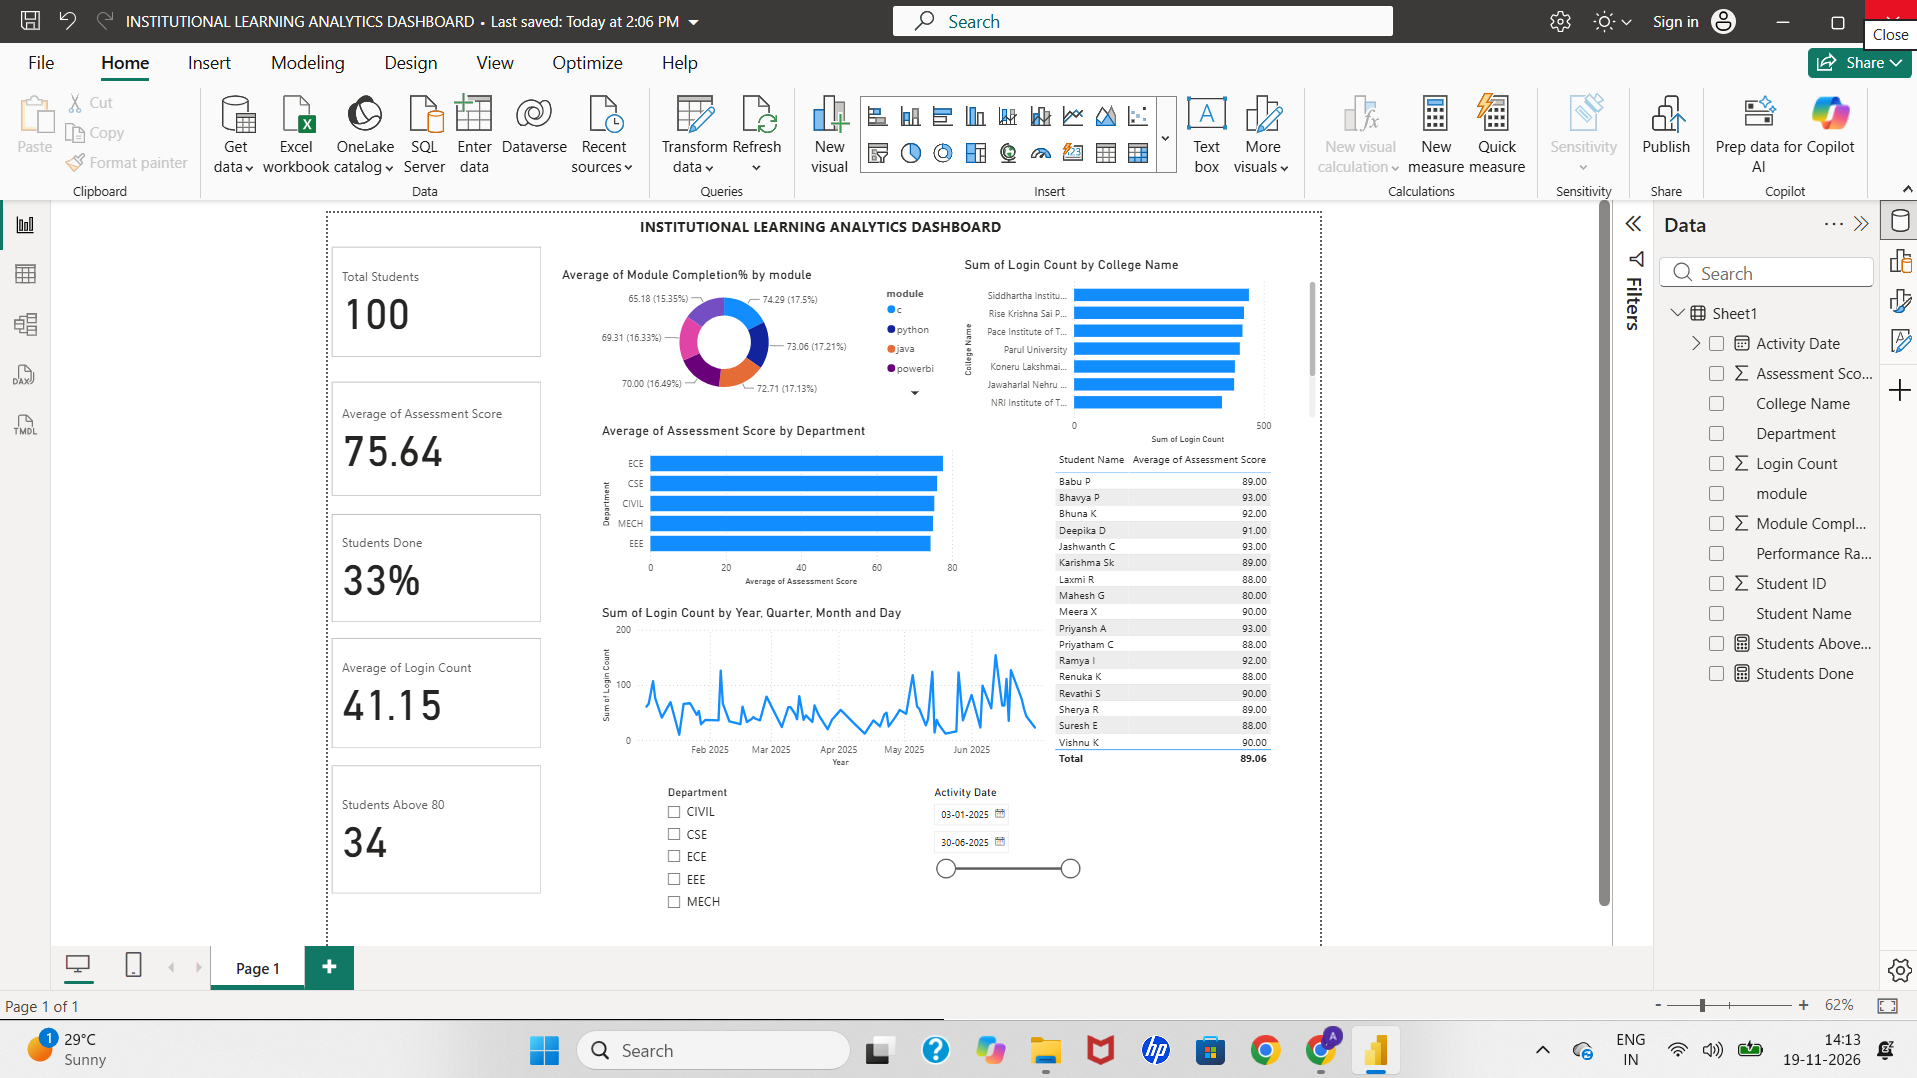

This screenshot's page, from the dashboard's own definition file:
{"tool":"powerbi","page":{"name":"Page 1","canvas":[1500,1300],"ordinal":0},"visuals":[{"type":"cardVisual","title":"TOTAL STUDENTS","fields":{"Data":["CountNonNull(Sheet1.Student ID)"]},"box":[0,38,280.3,152.1],"z":0},{"type":"cardVisual","fields":{"Data":["Avg(Sheet1.Assessment Score)"]},"box":[0,212.7,280.3,157.7],"z":1000},{"type":"cardVisual","fields":{"Data":["Sheet1.Students Done"]},"box":[0,384.5,280.3,149.3],"z":2000},{"type":"cardVisual","fields":{"Data":["Avg(Sheet1.Login Count)"]},"box":[0,543.7,280.3,152.1],"z":3000},{"type":"clusteredBarChart","fields":{"Category":["Sheet1.Department"],"Y":["Avg(Sheet1.Assessment Score)"]},"box":[347.9,270.4,469,215.5],"z":4000},{"type":"clusteredBarChart","fields":{"Category":["Sheet1.College Name"],"Y":["Sum(Sheet1.Login Count)"]},"box":[816.9,56.3,463.4,246.5],"z":5000},{"type":"donutChart","fields":{"Category":["Sheet1.module"],"Y":["Avg(Sheet1.Module Completion%)"]},"box":[297.2,69,500,176.1],"z":6000},{"type":"lineChart","fields":{"Category":["Sheet1.Activity Date.Variation.Date Hierarchy.Year","Sheet1.Activity Date.Variation.Date Hierarchy.Quarter","Sheet1.Activity Date.Variation.Date Hierarchy.Month","Sheet1.Activity Date.Variation.Date Hierarchy.Day"],"Y":["Sum(Sheet1.Login Count)"]},"box":[347.9,504.2,593,215.5],"z":7000},{"type":"tableEx","fields":{"Values":["Sheet1.Student Name","Avg(Sheet1.Assessment Score)"]},"box":[932.2,301.1,347.8,418.9],"z":8000},{"type":"textbox","box":[347.9,0,574.6,38],"z":9000},{"type":"slicer","fields":{"Values":["Sheet1.Department"]},"box":[425.6,733.3,210,246.7],"z":10000},{"type":"slicer","fields":{"Values":["Sheet1.Activity Date"]},"box":[770,733.3,210,417.8],"z":11000},{"type":"cardVisual","fields":{"Data":["Sheet1.Students Above 80"]},"box":[0,708.3,280,175],"z":12000}]}

Visuals, with their boxes on the page's 1500x1300 design canvas (x1, y1, x2, y2). These are canvas units, not pixel positions in the 1917x1078 screenshot, which may show the page scaled, cropped or inside an application window:
"TOTAL STUDENTS" cardVisual: (x1=0, y1=38, x2=280, y2=190)
cardVisual - Avg(Sheet1.Assessment Score): (x1=0, y1=213, x2=280, y2=370)
cardVisual - Sheet1.Students Done: (x1=0, y1=384, x2=280, y2=534)
cardVisual - Avg(Sheet1.Login Count): (x1=0, y1=544, x2=280, y2=696)
clusteredBarChart - Sheet1.Department x Avg(Sheet1.Assessment Score): (x1=348, y1=270, x2=817, y2=486)
clusteredBarChart - Sheet1.College Name x Sum(Sheet1.Login Count): (x1=817, y1=56, x2=1280, y2=303)
donutChart - Sheet1.module x Avg(Sheet1.Module Completion%): (x1=297, y1=69, x2=797, y2=245)
lineChart - Sheet1.Activity Date.Variation.Date Hierarchy.Year x Sheet1.Activity Date.Variation.Date Hierarchy.Quarter: (x1=348, y1=504, x2=941, y2=720)
tableEx - Sheet1.Student Name x Avg(Sheet1.Assessment Score): (x1=932, y1=301, x2=1280, y2=720)
textbox: (x1=348, y1=0, x2=922, y2=38)
slicer - Sheet1.Department: (x1=426, y1=733, x2=636, y2=980)
slicer - Sheet1.Activity Date: (x1=770, y1=733, x2=980, y2=1151)
cardVisual - Sheet1.Students Above 80: (x1=0, y1=708, x2=280, y2=883)
